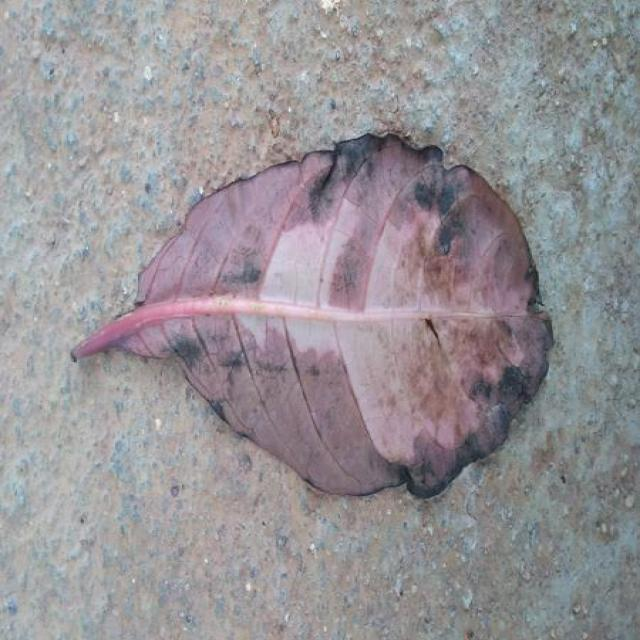disease in leaf: (73, 135, 552, 497)
late blightcaricature: (72, 135, 552, 497)
